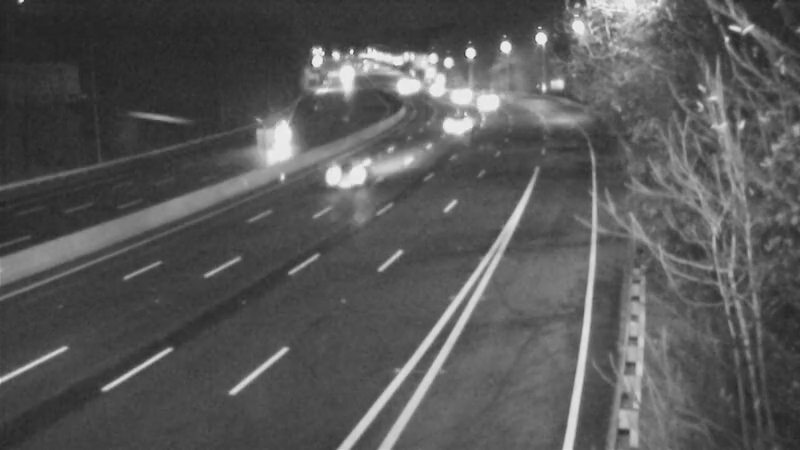vehicle: (313, 134, 393, 214), (412, 64, 462, 114), (429, 68, 479, 118), (459, 72, 509, 122), (434, 100, 484, 150), (254, 112, 304, 162)
